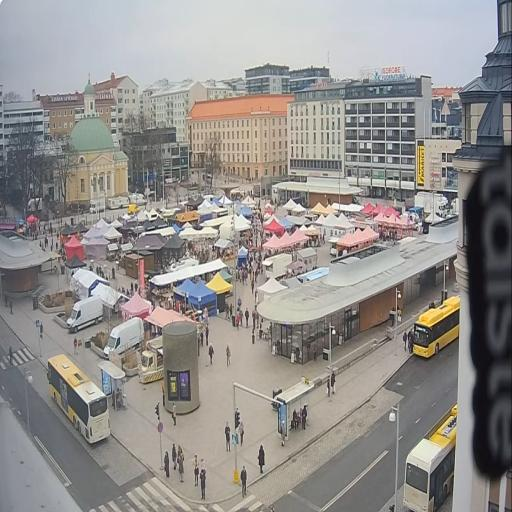Bus: (404, 403, 457, 511), (47, 355, 110, 443), (414, 296, 460, 358)
Delivery: (104, 317, 144, 359), (67, 297, 103, 333), (138, 336, 163, 383)
